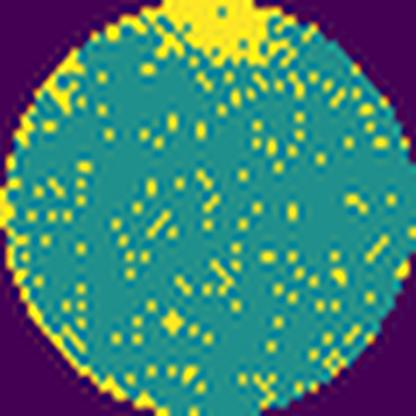Edge-Loc: (158, 0, 280, 66)
